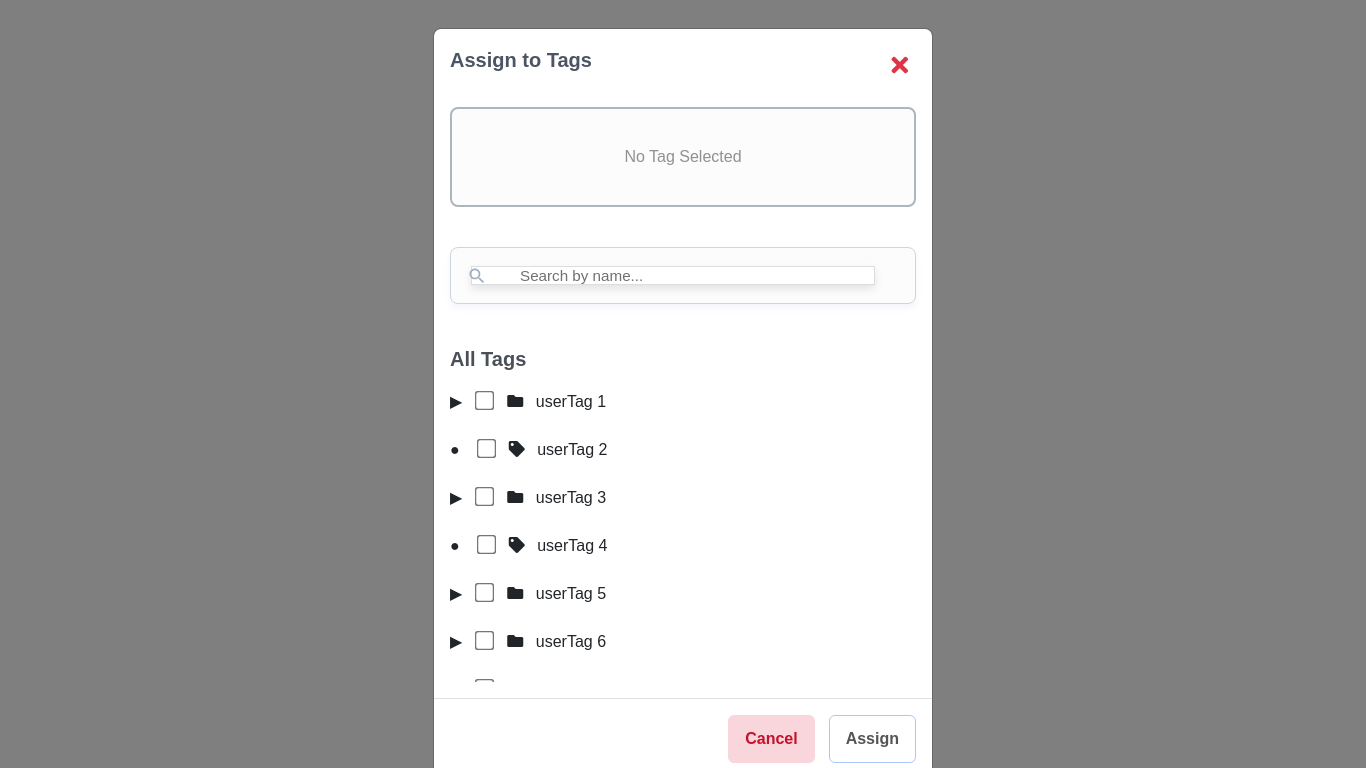
Test: Organisation Tags Page › searches for tags where the name matches the provided search input
Type "searchUserTag" into the search field with placeholder "Search by name..." at point(673, 276), box [471,266,875,285]
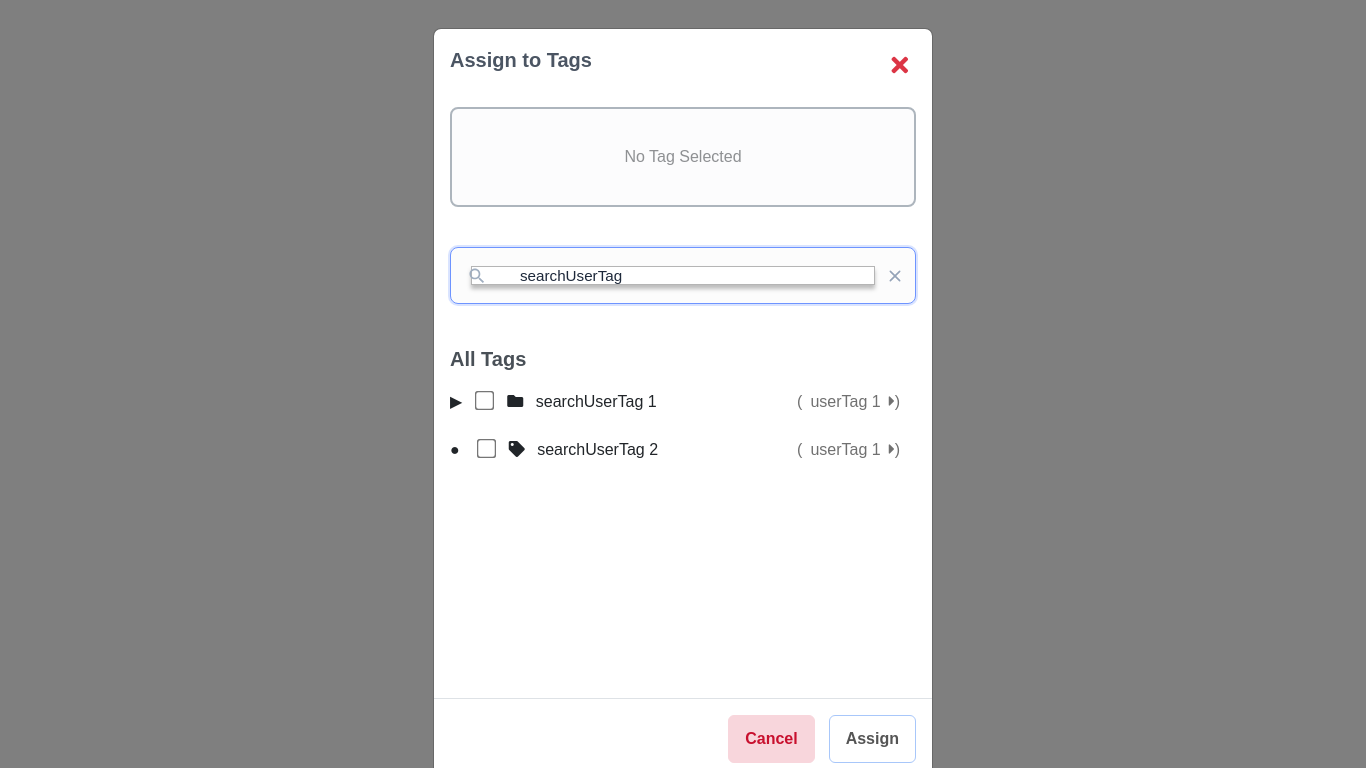
Expected: the number of elements with test id "orgUserTag" is 2, [450,391,657,410]; [450,439,658,458]
